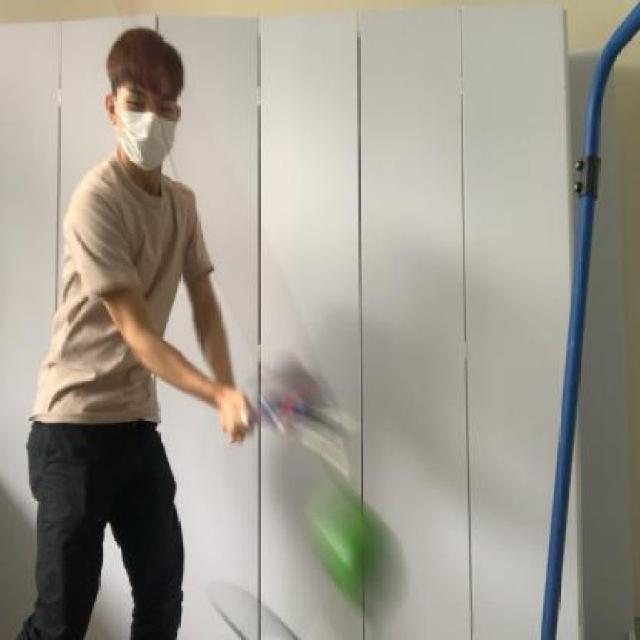baseball: (304, 472, 408, 614)
